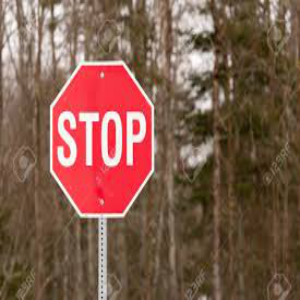STOP_SIGN: (49, 61, 155, 218)
